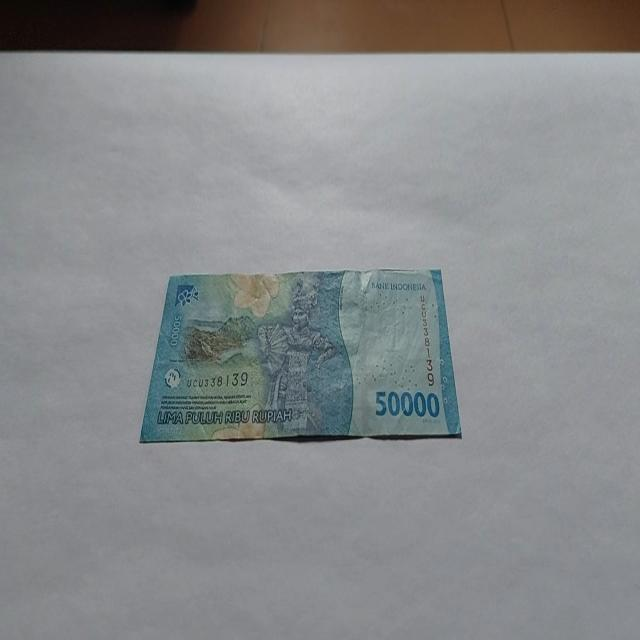lima puluh ribu rupiah: (138, 266, 462, 444)
